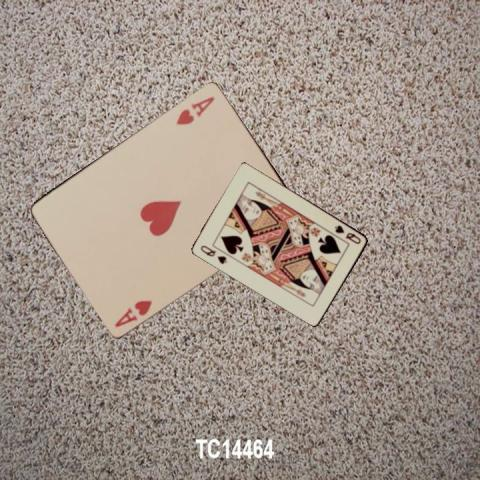Ah: (172, 93, 216, 126), (111, 296, 154, 328)
Qs: (332, 222, 363, 245), (197, 242, 228, 265)
